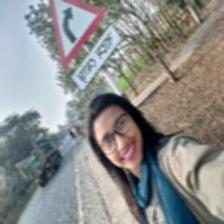Left-Turn: (42, 0, 148, 91)
